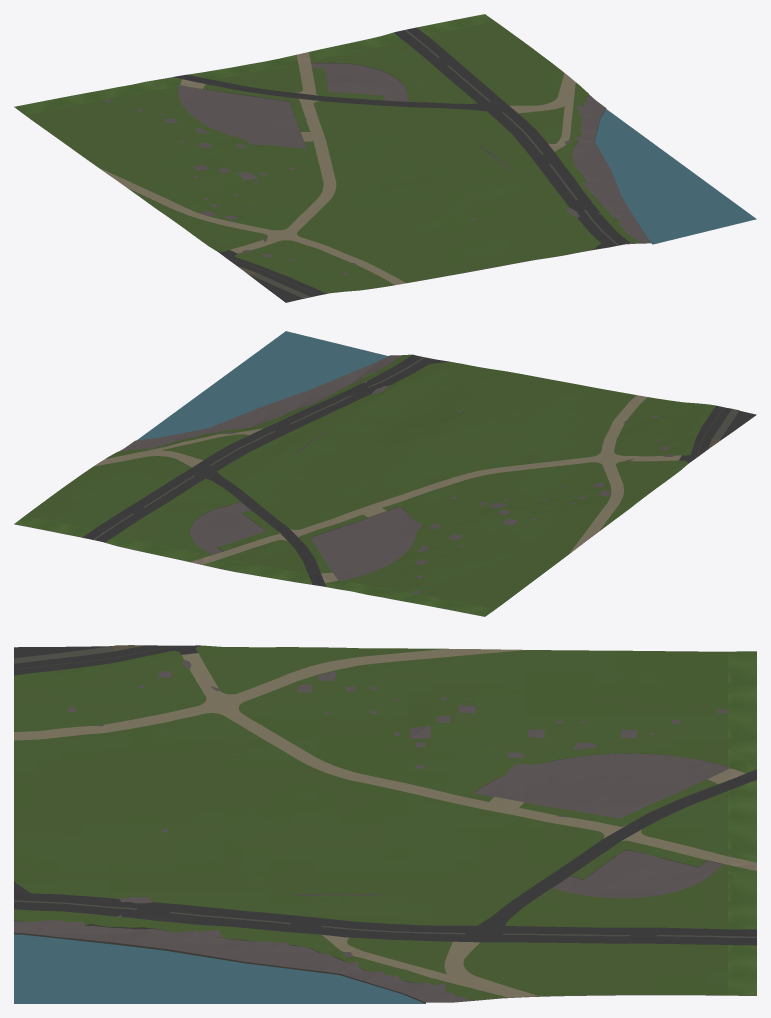
3 renders of one model, top to bottom at view 1: azimuth 30°, elevation 25°; view 2: azimuth 150°, elevation 25°; view 3: azimuth 270°, elevation 25°, orthographic. The views are drawn at different scales.
Visible parts, largest first — view 1: c_m10_m09; view 2: c_m10_m09; view 3: c_m10_m09.
Boxes of the visible parts, box(x1,y1,x2,y2) form: c_m10_m09: box(14, 14, 756, 302); c_m10_m09: box(14, 331, 756, 616); c_m10_m09: box(14, 645, 756, 1003).
Size of the model in its own units: 128 by 8.5 by 128.
